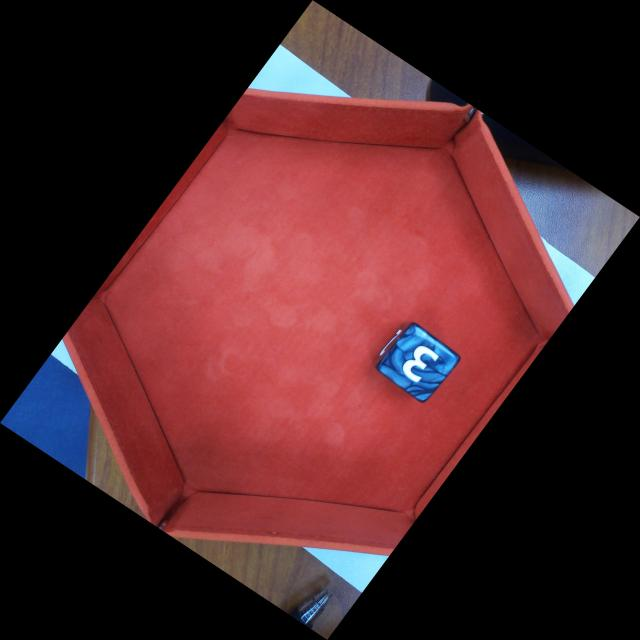dice: (376, 323, 461, 403)
